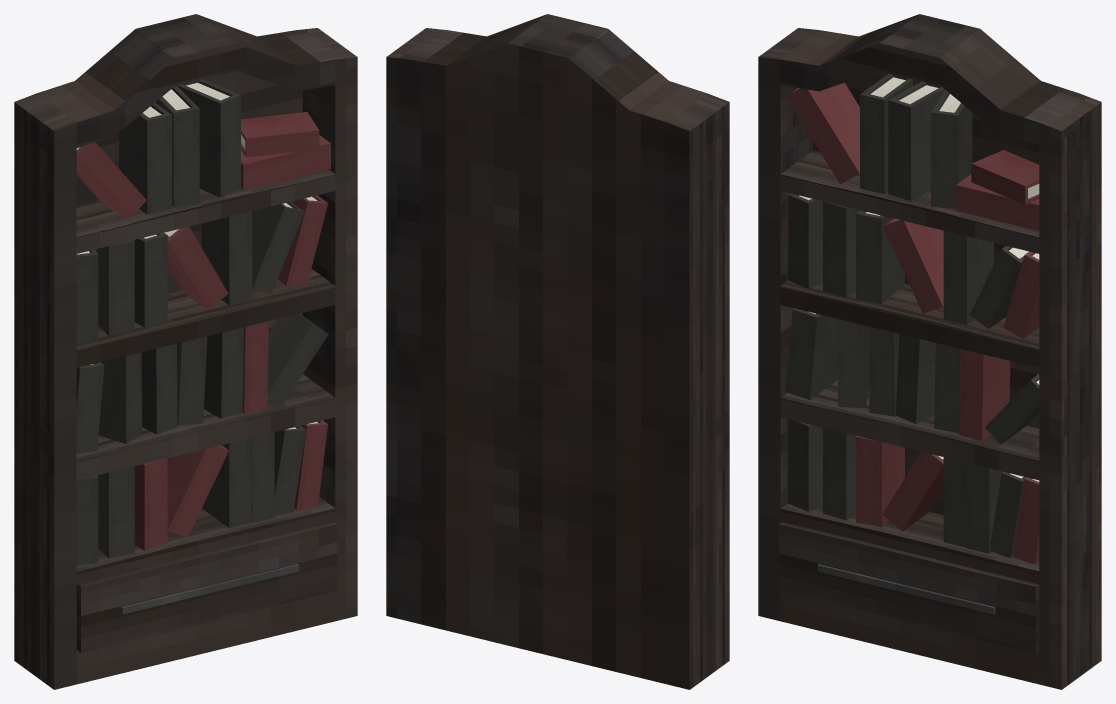
The model's file is library_2.gltf.
3 views of the same model, side by side, from view 1: azimuth 30°, elevation 25°; view 2: azimuth 150°, elevation 25°; view 3: azimuth 330°, elevation 25° (orthographic).
Visible parts, largest first — view 1: Library_2; view 2: Library_2; view 3: Library_2.
Boxes of the visible parts, x1,y1,x2,y2 form: Library_2: [14, 14, 357, 689]; Library_2: [386, 14, 729, 689]; Library_2: [758, 14, 1101, 689].
Bounding box in the file's own units: 1.2 × 2.27 × 0.3049.
5 materials, 5 textured.
